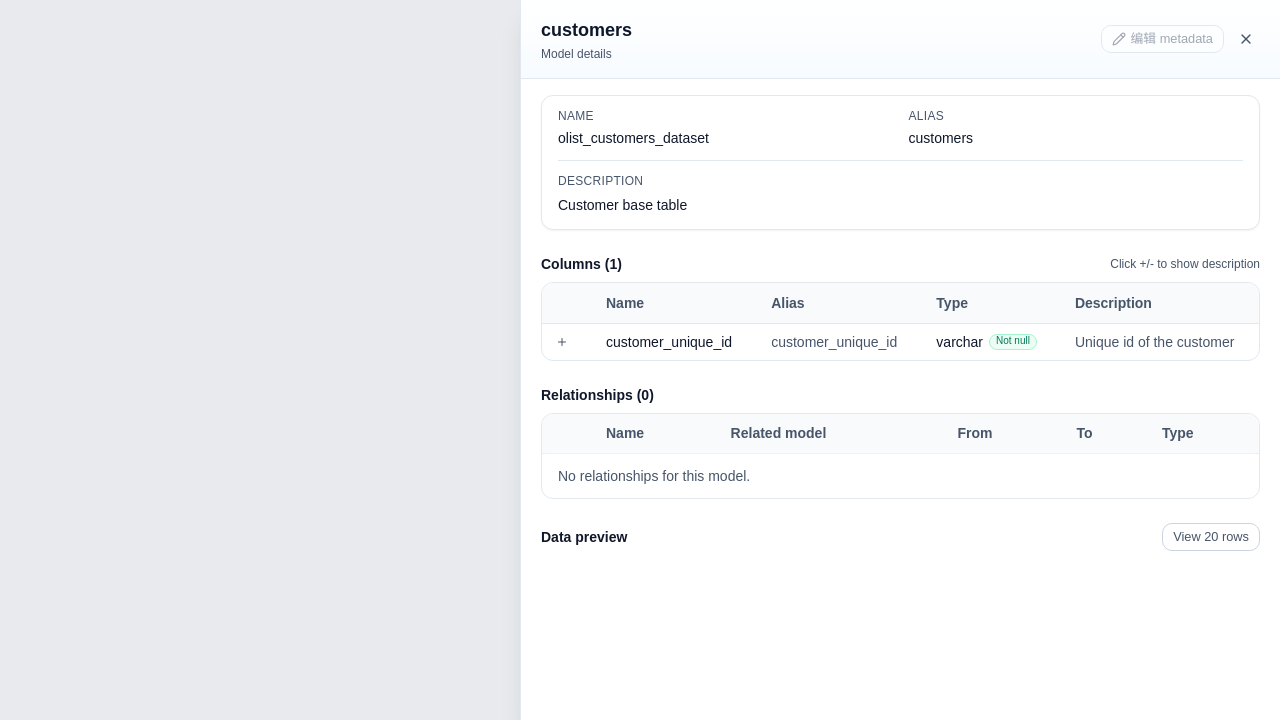
Test: ModelingModelDrawer › loads preview rows with limit 20
The width and height of the screenshot is (1280, 720).
Click the button "View 20 rows" at point(1211, 537), box [1162,523,1260,551]
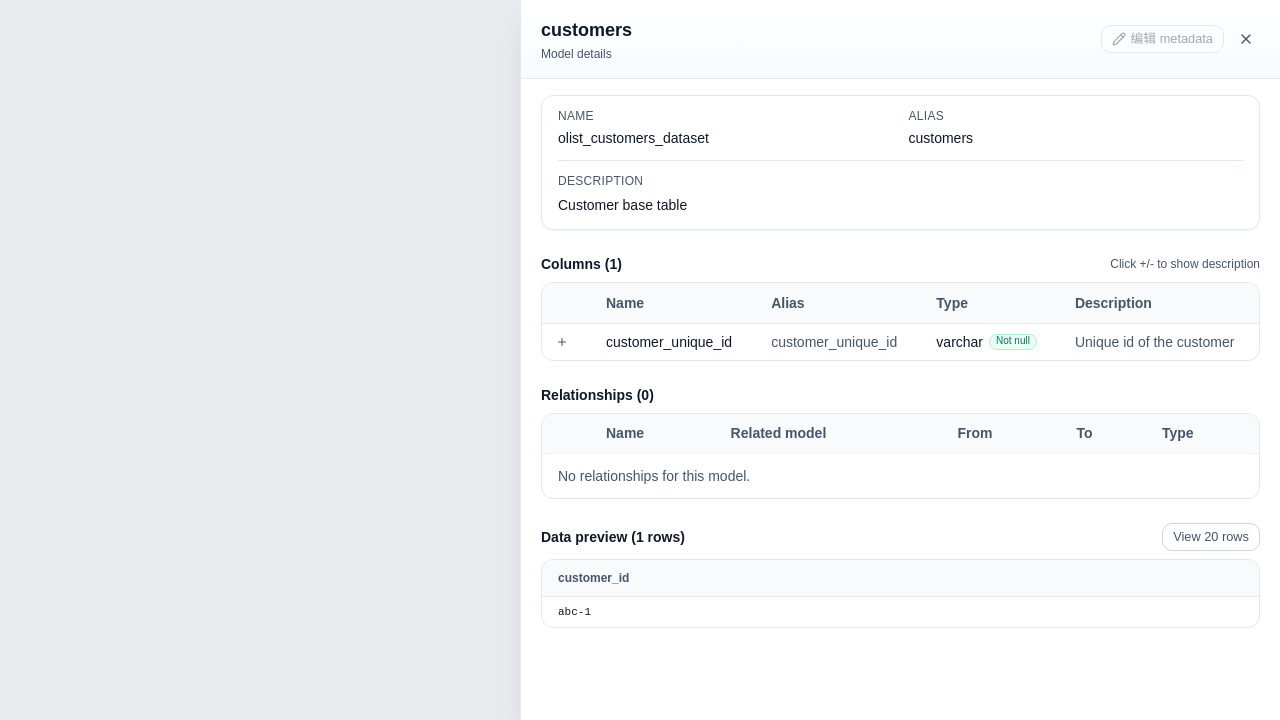
Now the text "abc-1" is shown, box [542,596,1259,627]
